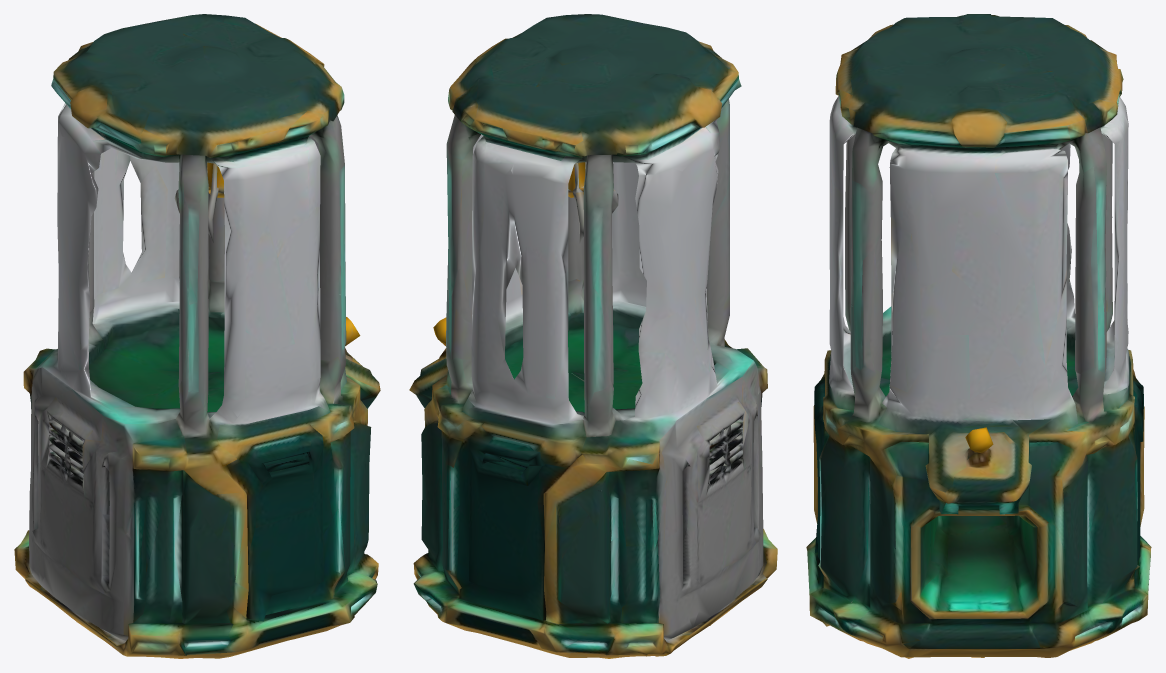
The model's file is claw-cabinet.glb.
3 views of the same model, side by side, from view 1: azimuth 30°, elevation 25°; view 2: azimuth 150°, elevation 25°; view 3: azimuth 270°, elevation 25° (orthographic).
Parts seen in each view (by area): view 1: tripo_node_dc168408-327f-48bf-945d-7ebc53cfe331; view 2: tripo_node_dc168408-327f-48bf-945d-7ebc53cfe331; view 3: tripo_node_dc168408-327f-48bf-945d-7ebc53cfe331.
Part boxes in pixels (<box>): tripo_node_dc168408-327f-48bf-945d-7ebc53cfe331: <box>14,14,380,658</box>; tripo_node_dc168408-327f-48bf-945d-7ebc53cfe331: <box>409,14,777,658</box>; tripo_node_dc168408-327f-48bf-945d-7ebc53cfe331: <box>806,14,1151,658</box>.
Bounding box in the file's own units: 0.5866 × 1 × 0.5762.
1 material, 1 textured.
